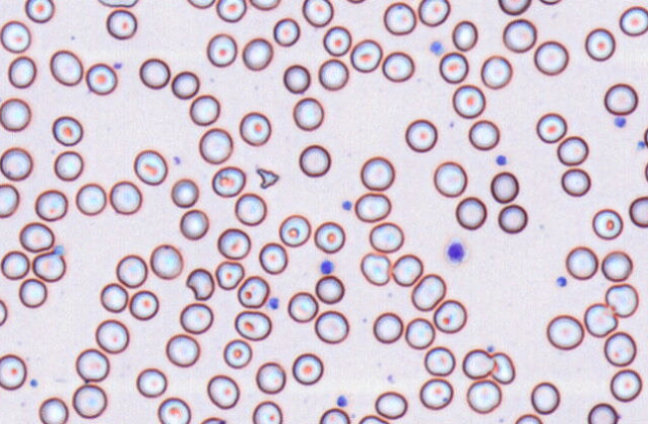PLT: (445, 241, 467, 264), (319, 259, 336, 276), (428, 41, 446, 55), (554, 274, 568, 288), (341, 198, 355, 212), (334, 394, 349, 407), (495, 153, 508, 166), (613, 115, 626, 128), (267, 296, 279, 310), (28, 376, 40, 389)
RBC: (546, 314, 584, 350), (411, 273, 446, 311), (433, 160, 467, 197), (199, 127, 233, 164), (466, 379, 501, 414), (72, 383, 107, 418), (533, 40, 568, 75), (133, 149, 167, 185), (49, 49, 82, 86), (583, 302, 617, 337), (165, 333, 200, 367), (360, 155, 394, 190), (314, 310, 349, 344), (150, 243, 183, 279), (75, 348, 109, 382), (433, 299, 467, 333), (95, 319, 129, 353), (502, 18, 536, 52), (603, 331, 636, 366), (206, 374, 239, 409), (603, 82, 638, 115), (609, 368, 642, 402), (605, 283, 638, 317), (419, 377, 453, 410), (452, 84, 485, 118), (565, 245, 598, 279), (383, 1, 416, 35), (404, 118, 437, 152), (109, 180, 142, 214), (239, 111, 271, 146), (234, 310, 271, 340), (354, 192, 391, 222), (298, 144, 331, 177), (211, 165, 245, 197), (179, 302, 213, 334), (0, 146, 32, 180), (480, 55, 512, 89), (19, 221, 54, 252), (32, 250, 65, 282), (391, 253, 423, 286), (85, 62, 117, 95), (234, 192, 266, 225), (217, 227, 250, 259), (350, 39, 382, 72), (237, 275, 269, 308), (34, 189, 67, 221), (291, 352, 323, 385), (292, 97, 324, 130), (278, 214, 310, 247), (0, 97, 31, 131), (369, 221, 403, 252), (206, 33, 237, 67), (455, 196, 486, 230), (584, 27, 615, 61), (0, 20, 31, 53), (116, 254, 147, 287), (255, 361, 286, 394), (75, 182, 106, 215), (462, 348, 494, 379), (404, 317, 435, 349), (601, 250, 633, 281), (139, 57, 170, 89), (382, 51, 414, 82), (372, 311, 403, 343), (314, 221, 345, 253), (592, 208, 623, 240), (530, 381, 560, 414), (360, 252, 390, 285), (242, 37, 272, 70), (0, 353, 26, 390), (106, 8, 137, 39), (468, 119, 499, 150), (536, 112, 567, 143), (189, 94, 220, 125), (287, 291, 318, 322), (423, 346, 455, 376), (318, 58, 348, 90), (556, 135, 588, 165), (7, 55, 36, 88), (136, 367, 167, 397), (53, 150, 83, 181), (52, 115, 82, 146), (490, 171, 519, 203), (439, 51, 468, 83), (179, 208, 208, 240), (258, 242, 287, 274), (374, 391, 407, 419), (129, 289, 158, 320), (322, 25, 351, 56), (157, 397, 191, 423), (215, 260, 244, 290), (223, 338, 252, 368), (497, 204, 527, 233), (619, 5, 647, 36), (0, 250, 29, 279), (561, 167, 590, 196), (18, 278, 47, 307), (315, 275, 344, 304), (100, 282, 128, 312), (302, 0, 333, 27), (418, 0, 450, 26), (171, 70, 199, 99), (38, 396, 68, 423), (283, 63, 310, 93), (451, 20, 477, 51), (171, 178, 198, 207), (273, 17, 300, 46), (252, 400, 282, 423), (24, 0, 54, 23), (587, 402, 619, 423), (216, 0, 246, 22), (0, 183, 19, 217), (629, 196, 647, 227), (319, 407, 350, 423), (498, 0, 531, 15), (249, 0, 280, 10), (97, 0, 138, 7), (514, 413, 542, 423), (358, 414, 389, 423), (186, 0, 215, 9), (0, 298, 7, 326), (199, 416, 226, 423), (537, 0, 563, 5), (643, 125, 648, 148), (342, 0, 368, 4), (644, 160, 648, 182)
Schistocyte: (185, 267, 215, 301), (491, 352, 516, 386), (256, 167, 279, 190)
